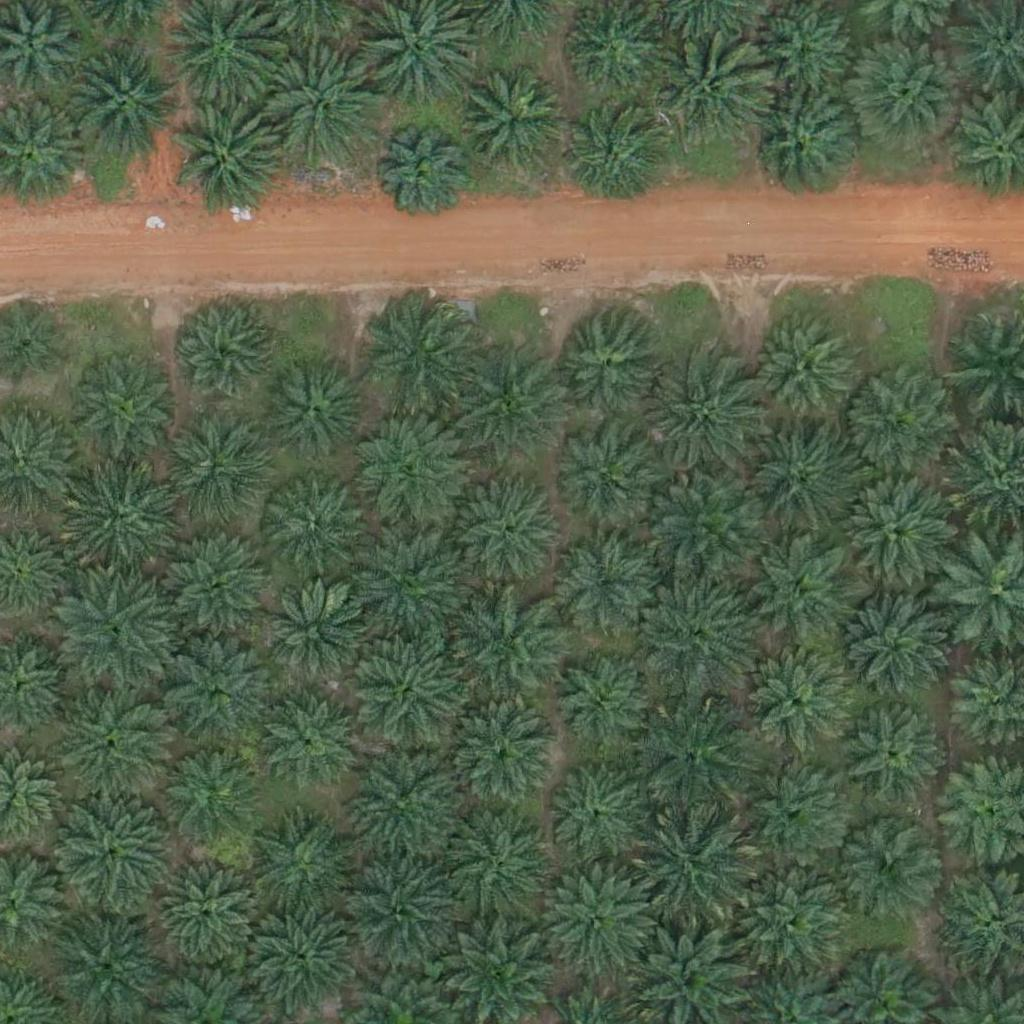Kelapa_Sawit: (748, 536, 861, 650), (441, 697, 554, 811), (264, 53, 377, 167), (64, 46, 177, 160), (841, 366, 954, 479), (842, 470, 955, 583), (835, 702, 948, 815), (830, 810, 943, 923), (728, 868, 841, 981), (739, 425, 852, 538), (653, 471, 766, 584), (633, 575, 746, 688), (551, 418, 664, 531), (444, 354, 557, 467), (445, 475, 558, 588), (438, 815, 551, 928), (358, 303, 471, 416), (351, 420, 464, 533), (355, 635, 468, 748), (348, 737, 461, 850), (243, 819, 356, 932), (58, 580, 171, 693), (53, 687, 166, 800), (58, 791, 171, 904), (746, 644, 858, 758), (549, 308, 661, 422), (346, 846, 458, 960), (64, 352, 176, 466), (836, 595, 948, 708), (739, 756, 851, 869), (647, 359, 759, 472), (640, 699, 752, 812), (641, 812, 753, 925), (542, 865, 654, 978), (460, 587, 572, 700), (353, 531, 465, 644), (264, 582, 376, 695), (249, 895, 361, 1008), (163, 631, 275, 744), (63, 467, 175, 580), (852, 41, 964, 154), (746, 87, 858, 200), (651, 35, 763, 148), (458, 71, 570, 184), (173, 104, 285, 217), (749, 319, 849, 420), (544, 757, 644, 858), (557, 541, 657, 642), (267, 355, 367, 456), (266, 484, 366, 585), (259, 693, 359, 794), (158, 745, 258, 846), (168, 532, 268, 633), (563, 109, 663, 210), (551, 656, 651, 756), (158, 864, 258, 964), (161, 419, 261, 519), (172, 302, 272, 402), (376, 133, 463, 221)
